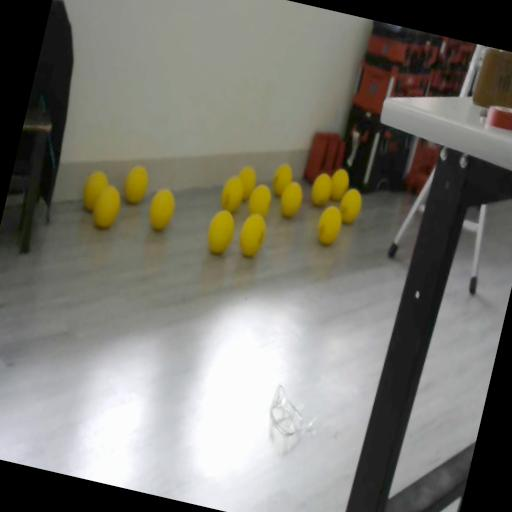FUEL: (202, 205, 239, 257), (235, 208, 271, 260), (89, 182, 126, 232), (144, 184, 180, 234), (313, 201, 346, 248), (120, 163, 152, 206), (276, 178, 306, 220), (336, 186, 365, 227), (245, 181, 275, 220), (233, 162, 260, 202), (308, 170, 335, 209), (326, 166, 352, 202)
